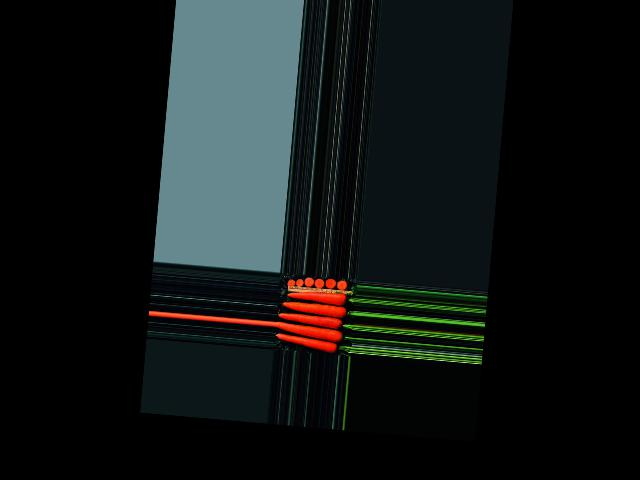carrot: (283, 285, 352, 306)
